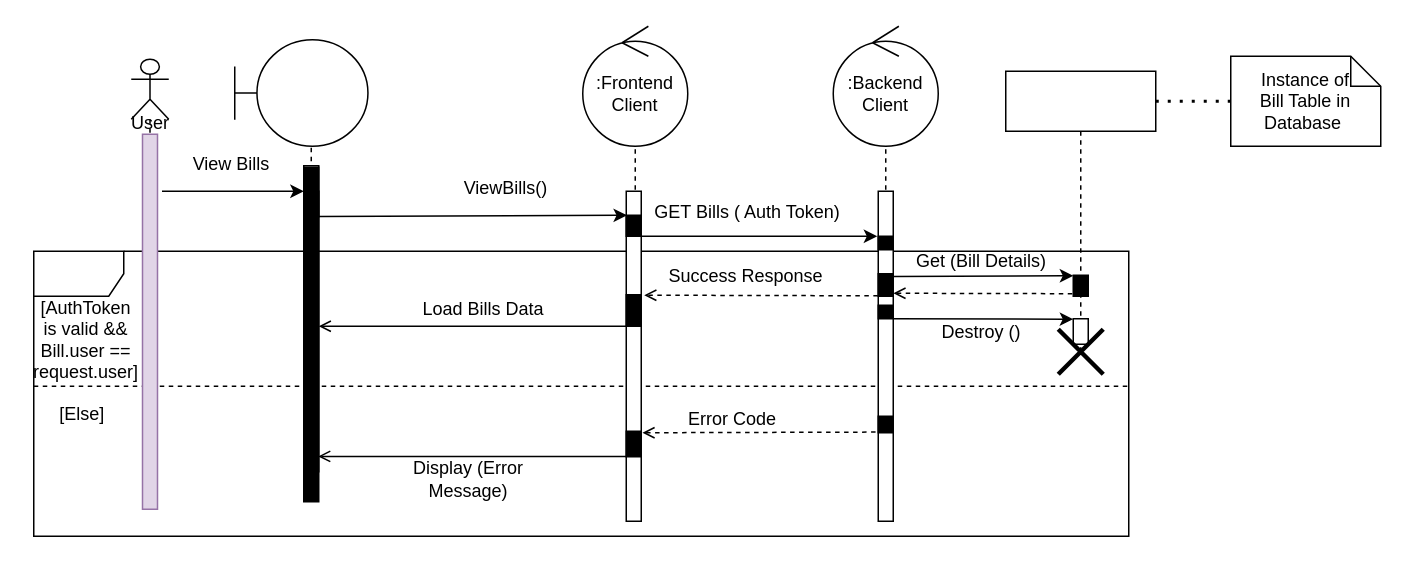
This 1407x563 diagram has some shape labels left out. The box of each missing label's shape, as (x1, y1, x2, y2) in pixels:
:Bill: (1004, 70, 1156, 356)
:BillsUI: (233, 38, 368, 146)
alt: (32, 250, 1129, 536)
